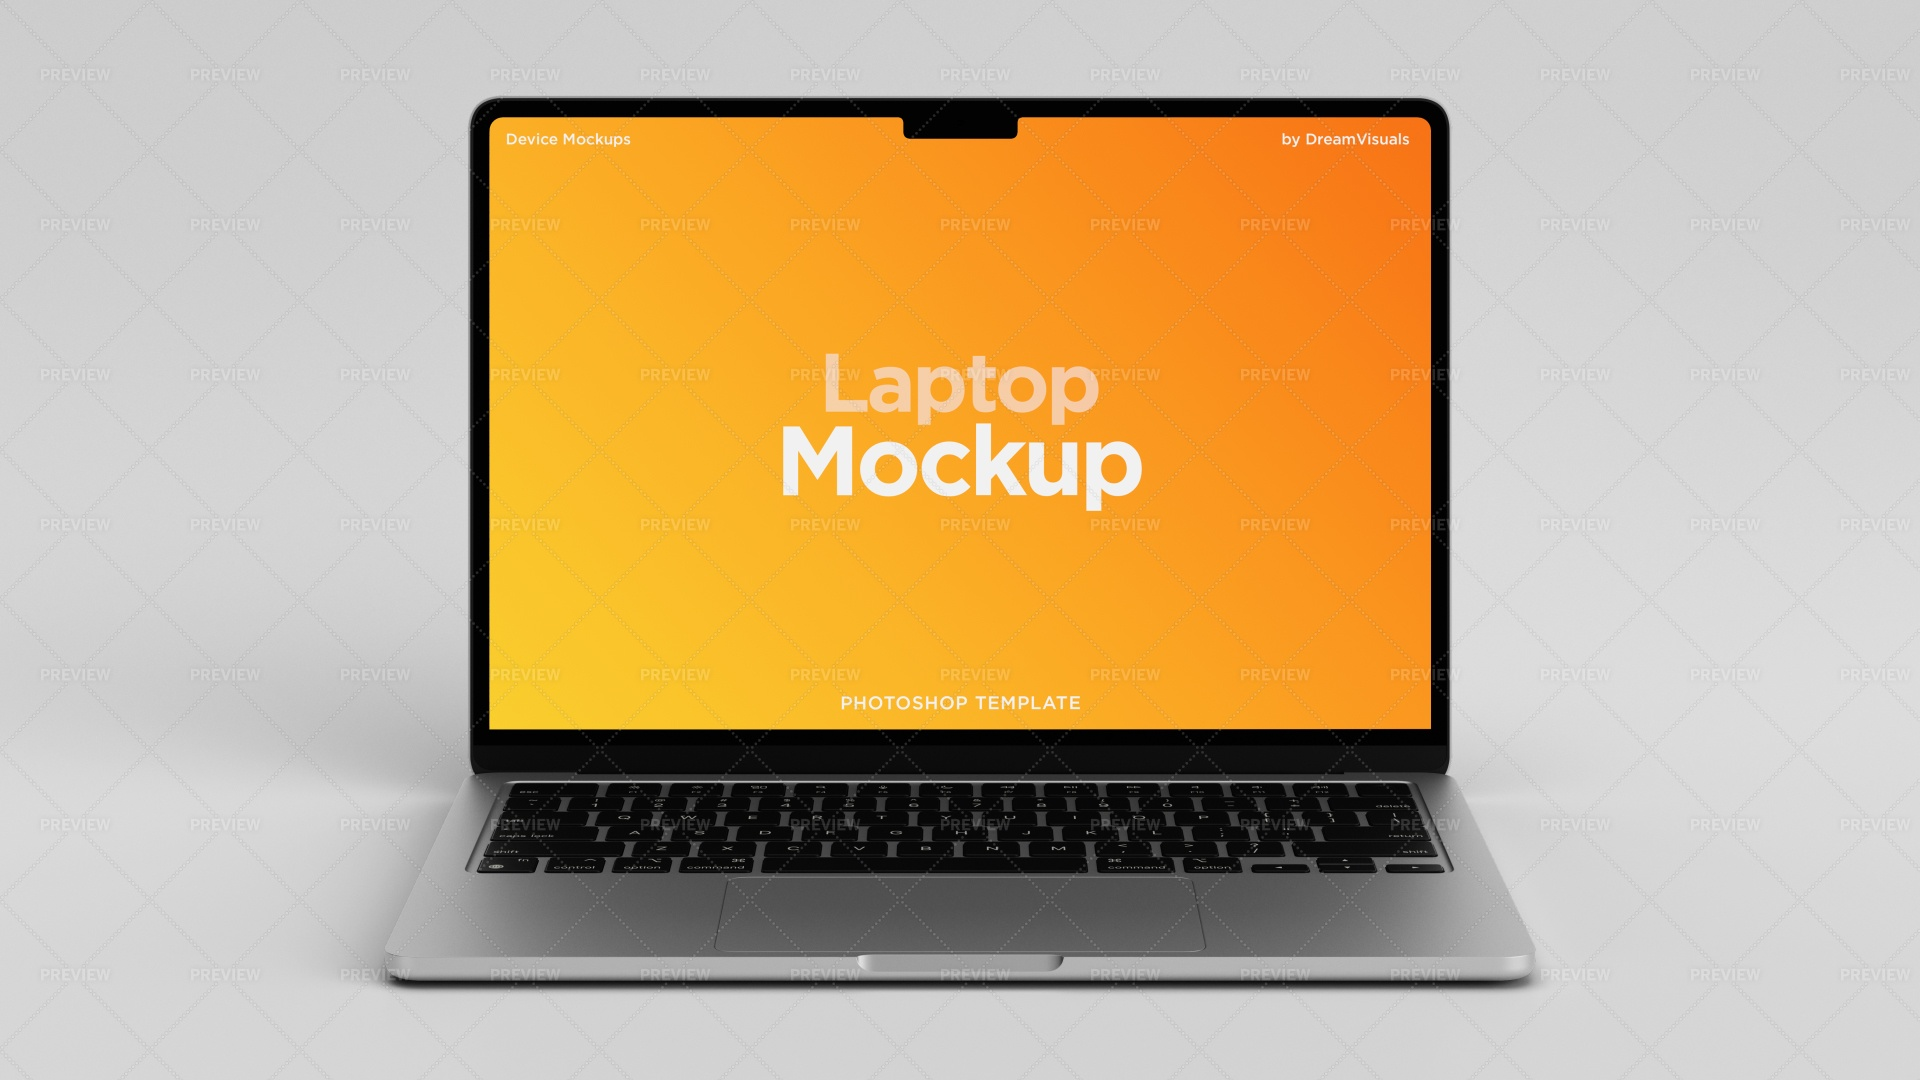laptop: (356, 73, 1584, 1004)
